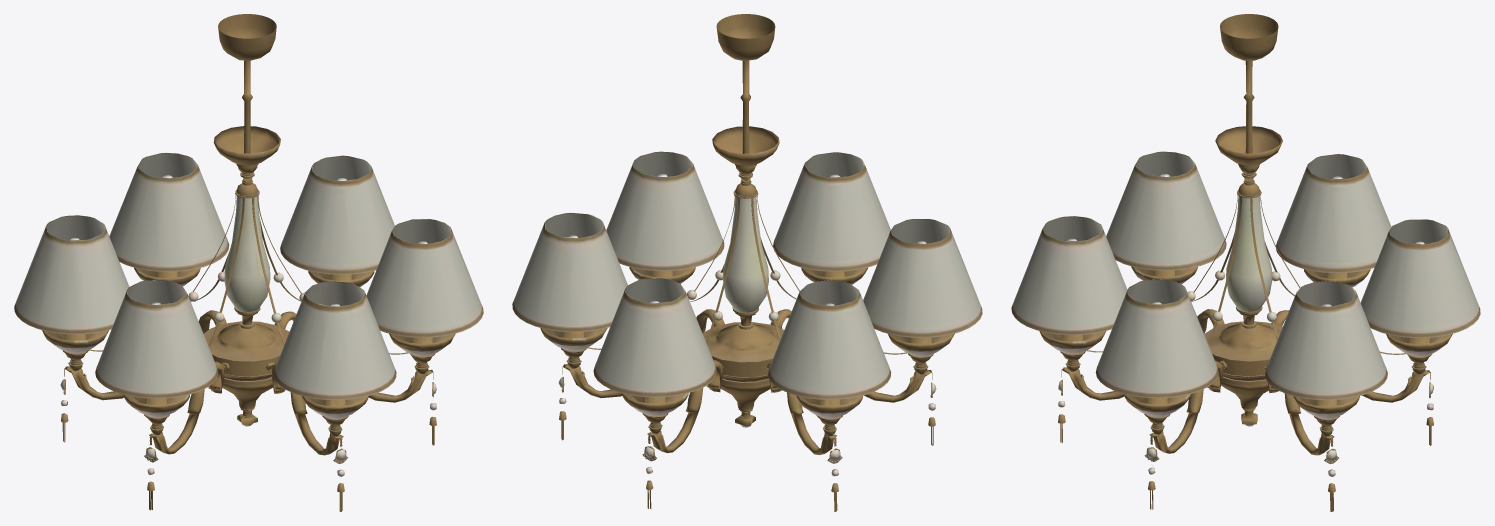
The model's file is Chandelier_01.glb.
3 renders of one model, left to right at view 1: azimuth 30°, elevation 25°; view 2: azimuth 150°, elevation 25°; view 3: azimuth 270°, elevation 25°, orthographic.
Parts seen in each view (by area): view 1: Chandelier_01; view 2: Chandelier_01; view 3: Chandelier_01.
Boxes of the visible parts, <box> form: Chandelier_01: <box>14,14,483,511</box>; Chandelier_01: <box>512,14,982,511</box>; Chandelier_01: <box>1011,14,1480,511</box>.
Bounding box in the file's own units: 0.7465 × 0.7982 × 0.8155.
2 materials, 1 textured.
